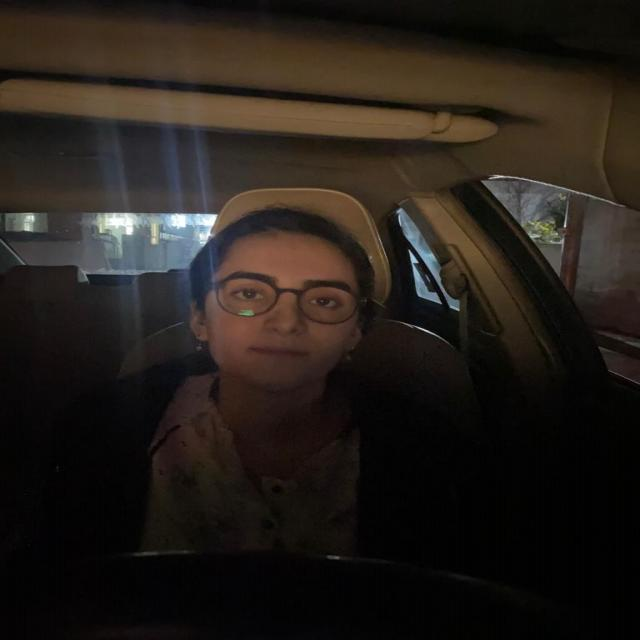person: (178, 206, 382, 400)
